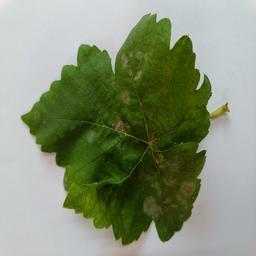Powdery-Mildew: (123, 35, 158, 83), (70, 184, 106, 215), (154, 150, 183, 187), (141, 194, 167, 218), (83, 126, 100, 143), (118, 92, 135, 108)
